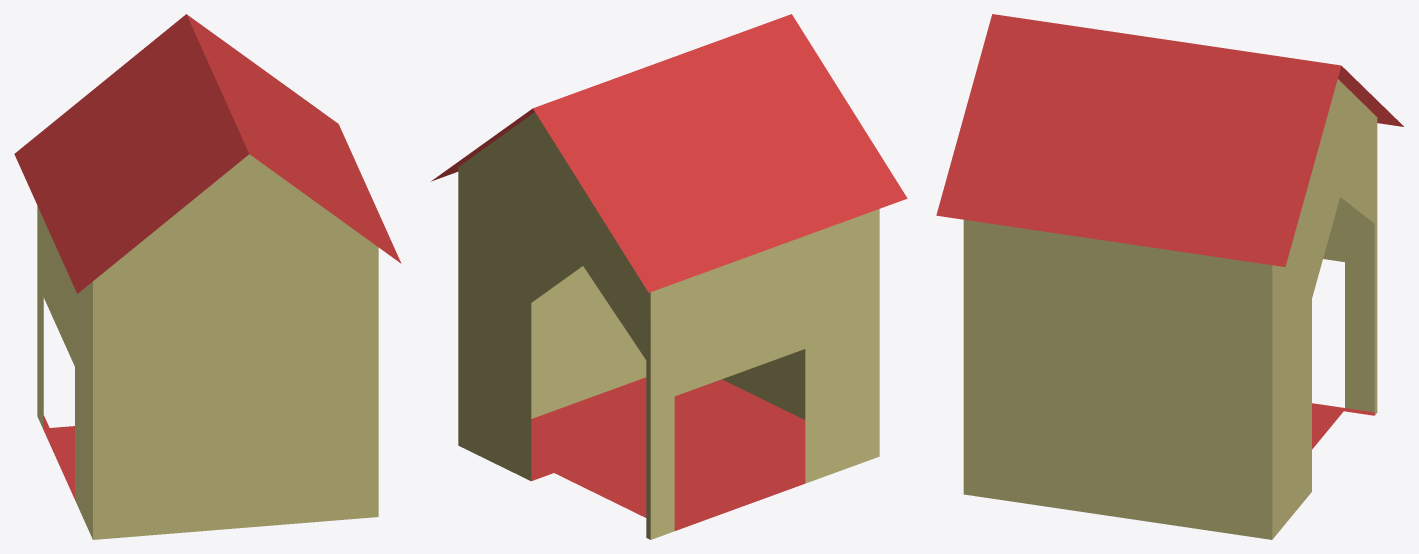
The picture shows the model from 3 angles, left to right: view 1: azimuth 30°, elevation 25°; view 2: azimuth 150°, elevation 25°; view 3: azimuth 270°, elevation 25°; orthographic projection. The views are drawn at different scales.
Bounding box in the file's own units: 16.14 × 16.31 × 16.07.
